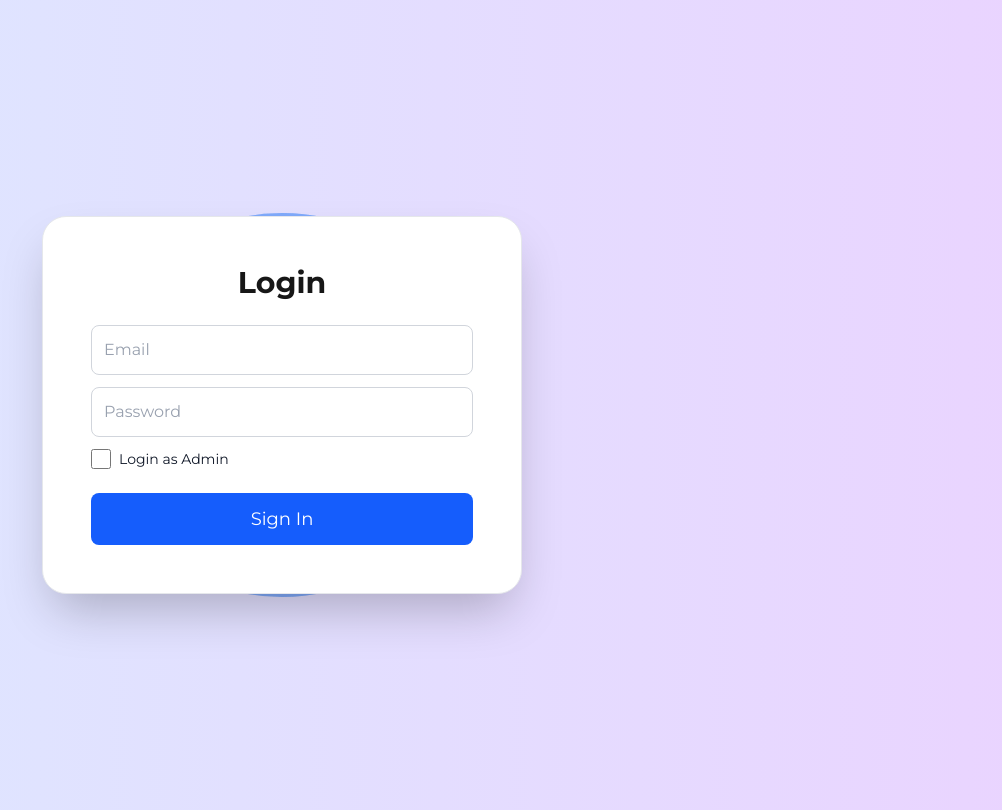
Test: LoginPage › shows error messages if fields are empty
Click the button "Sign In".
click(282, 519)  # box x1=91 y1=493 x2=473 y2=545
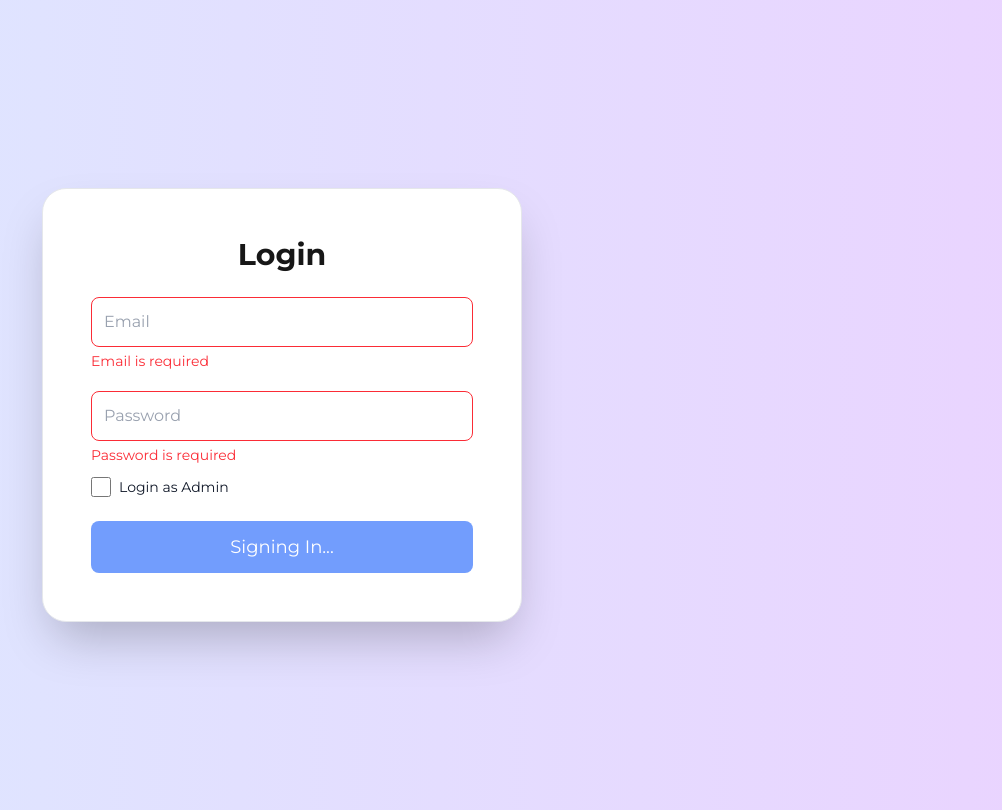
Expected: the text "Email is required" is shown, x1=91 y1=352 x2=209 y2=370
Expected: the text "Password is required" is shown, x1=91 y1=446 x2=236 y2=464
